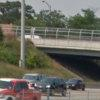Car: (20, 67, 86, 94)
